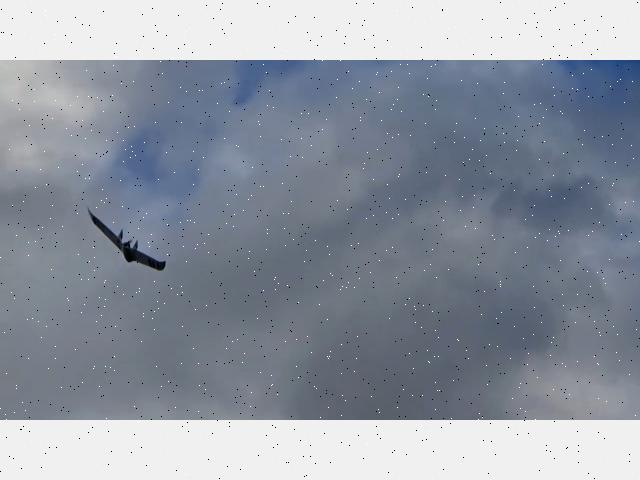Anti-Drone: (86, 205, 166, 273)
